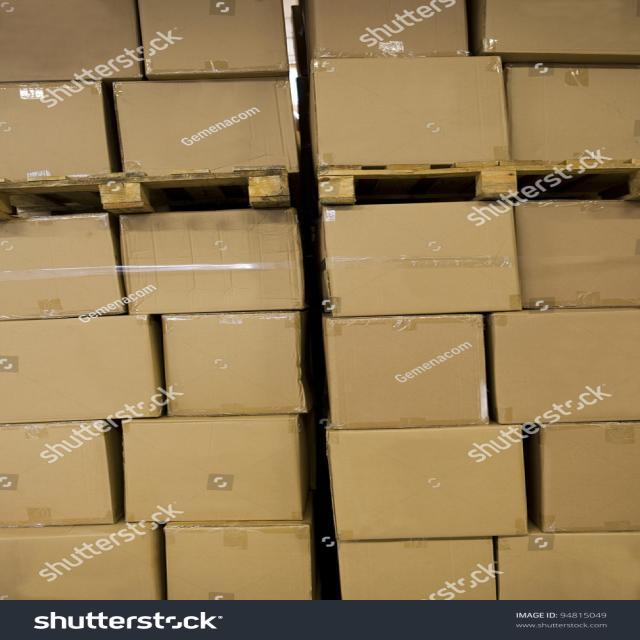BoxFace: (330, 428, 530, 544), (324, 199, 518, 315), (311, 51, 511, 162), (121, 416, 308, 523), (119, 207, 308, 311), (326, 314, 487, 430), (111, 80, 299, 172), (0, 316, 162, 422), (494, 308, 640, 422), (162, 312, 306, 416), (511, 198, 640, 308), (0, 212, 124, 319), (0, 524, 164, 599), (507, 64, 636, 159), (162, 522, 312, 600), (0, 0, 141, 81), (0, 424, 113, 522), (142, 0, 290, 73), (544, 423, 640, 534), (0, 80, 108, 178), (338, 540, 496, 602), (497, 535, 640, 602), (482, 0, 640, 56), (314, 0, 466, 55)
